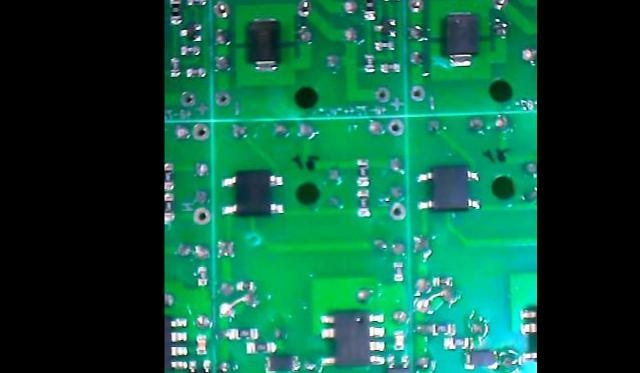chip-capacitor: (394, 328, 406, 350), (196, 333, 208, 355)
chip-resistor: (356, 187, 372, 218), (355, 156, 372, 185), (442, 335, 474, 349), (430, 321, 457, 336), (250, 340, 278, 353), (164, 191, 176, 221), (164, 161, 176, 190), (233, 326, 259, 339), (169, 0, 183, 24), (362, 0, 378, 20), (431, 273, 454, 286), (373, 37, 396, 50), (363, 52, 377, 73), (392, 259, 405, 281), (379, 60, 401, 73), (185, 65, 207, 77), (170, 54, 182, 76), (179, 43, 201, 55), (197, 264, 209, 285), (236, 279, 256, 290), (186, 0, 208, 4)
diode: (443, 9, 481, 68), (245, 14, 283, 72), (463, 347, 499, 370), (265, 353, 302, 372)
ic: (318, 307, 387, 366), (414, 163, 483, 212), (220, 166, 285, 217), (385, 351, 412, 373), (187, 356, 213, 373)
transistor: (179, 21, 203, 41), (374, 17, 398, 37)
